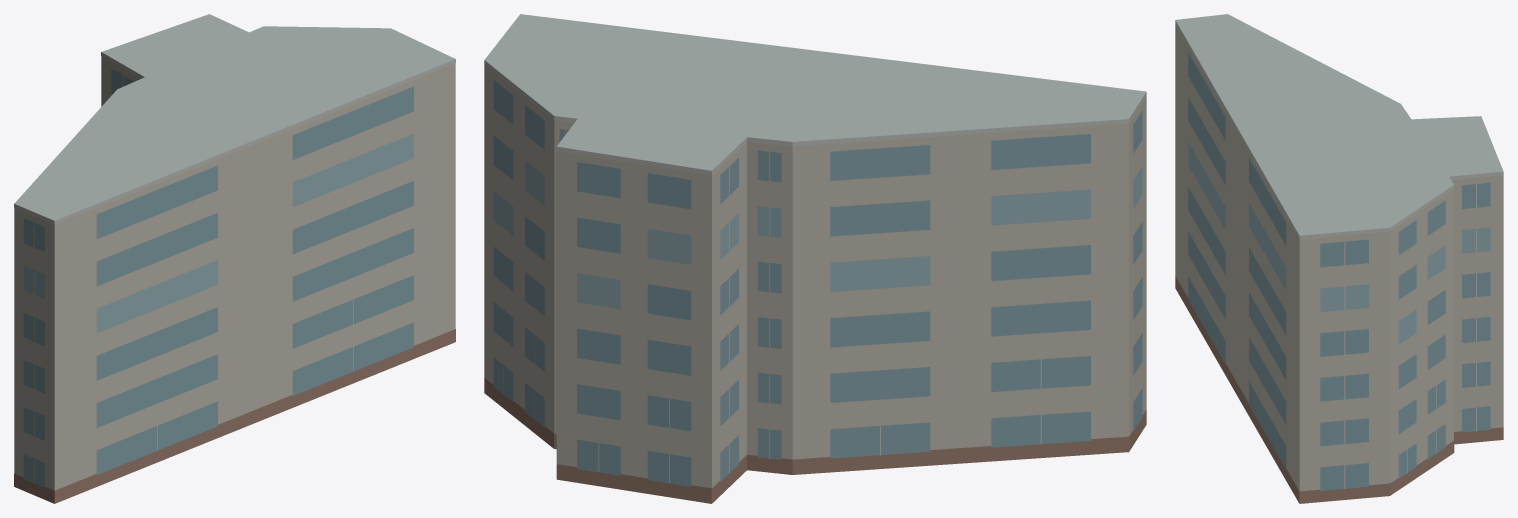
The model's file is survey-upis-32821739.glb.
3 renders of one model, left to right at view 1: azimuth 30°, elevation 25°; view 2: azimuth 150°, elevation 25°; view 3: azimuth 270°, elevation 25°, orthographic. The views are drawn at different scales.
Parts seen in each view (by area): view 1: survey-upis-32821739.tmp; view 2: survey-upis-32821739.tmp; view 3: survey-upis-32821739.tmp.
Part boxes in pixels (left/top/right/bottom): survey-upis-32821739.tmp: left=14, top=14, right=455, bottom=503; survey-upis-32821739.tmp: left=484, top=14, right=1146, bottom=503; survey-upis-32821739.tmp: left=1175, top=14, right=1503, bottom=503.
Size of the model in its own units: 30.59 by 17.25 by 19.15.
